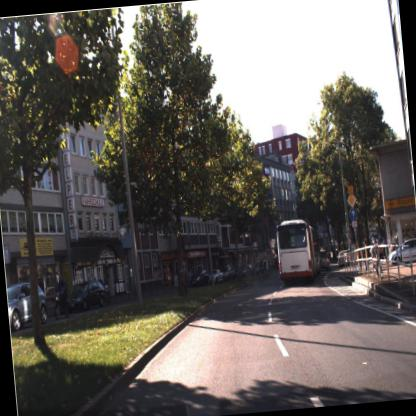mandatory: (348, 206, 357, 224)
other: (346, 189, 358, 207)
